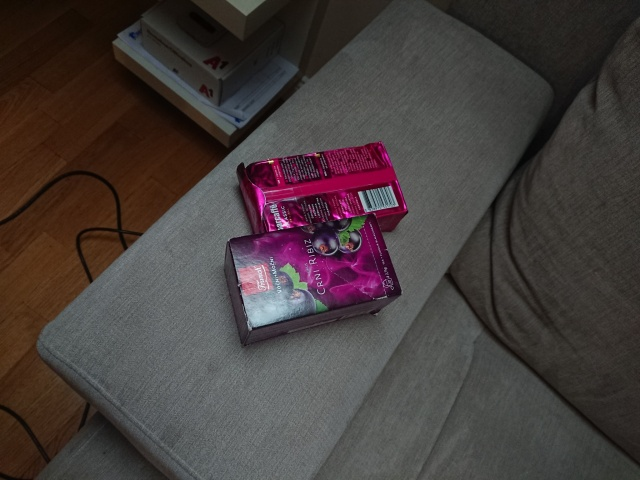Barcaffe Classic Original 225g: (233, 139, 410, 248)
Franck Black Currant Tea 60g: (221, 211, 405, 350)
